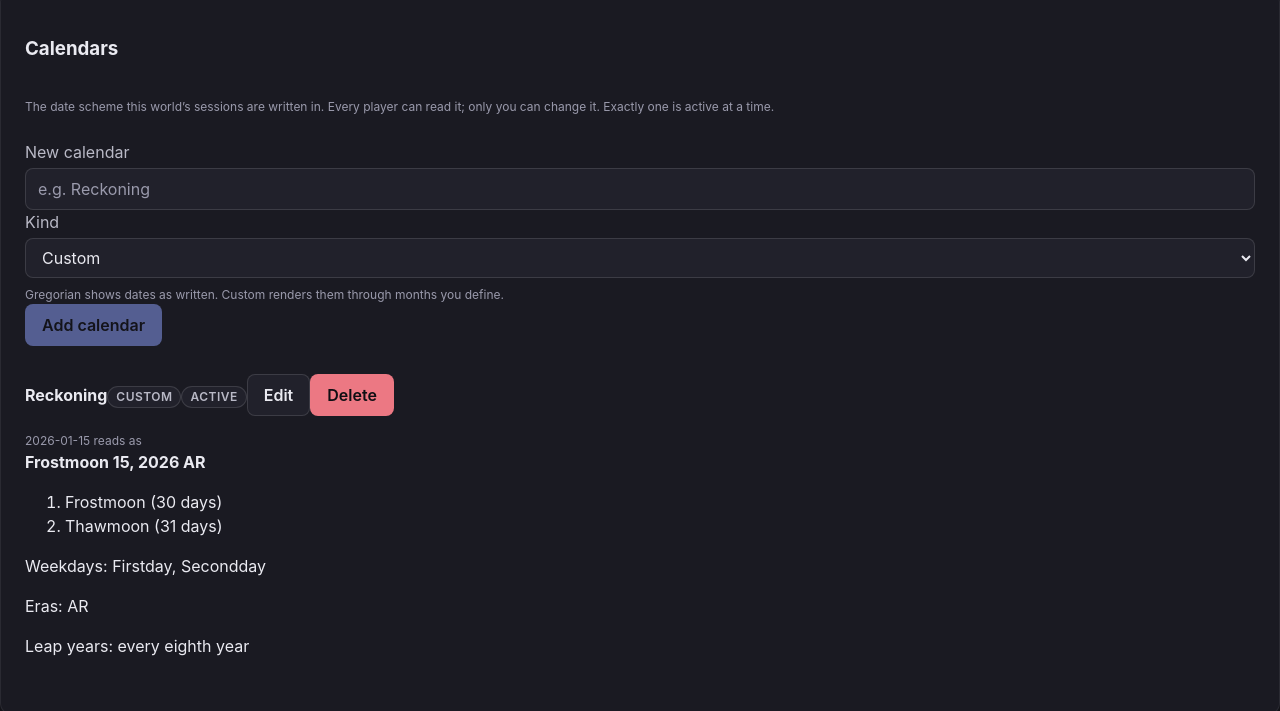
Test: CalendarsPanel › the structured config editor › previews the UNSAVED draft, so a rename is visible before committing
Click the button with aria-label "Edit Reckoning": (278,394) [247,374,310,416]
(page scrolled)
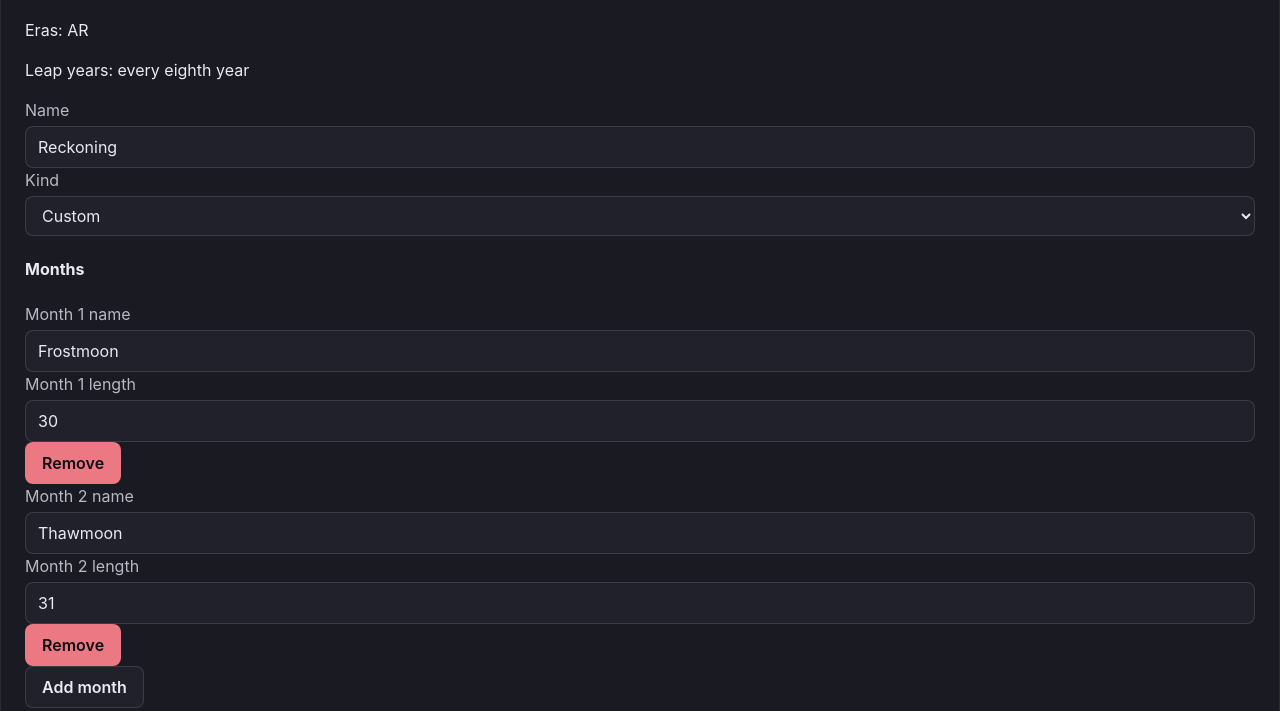
Renaming the FIRST month is what the sample reads through.
Replace the text in the field labelled "Month 1 name" with "Rainmoon": (640,351) [25,330,1255,372]
(page scrolled)
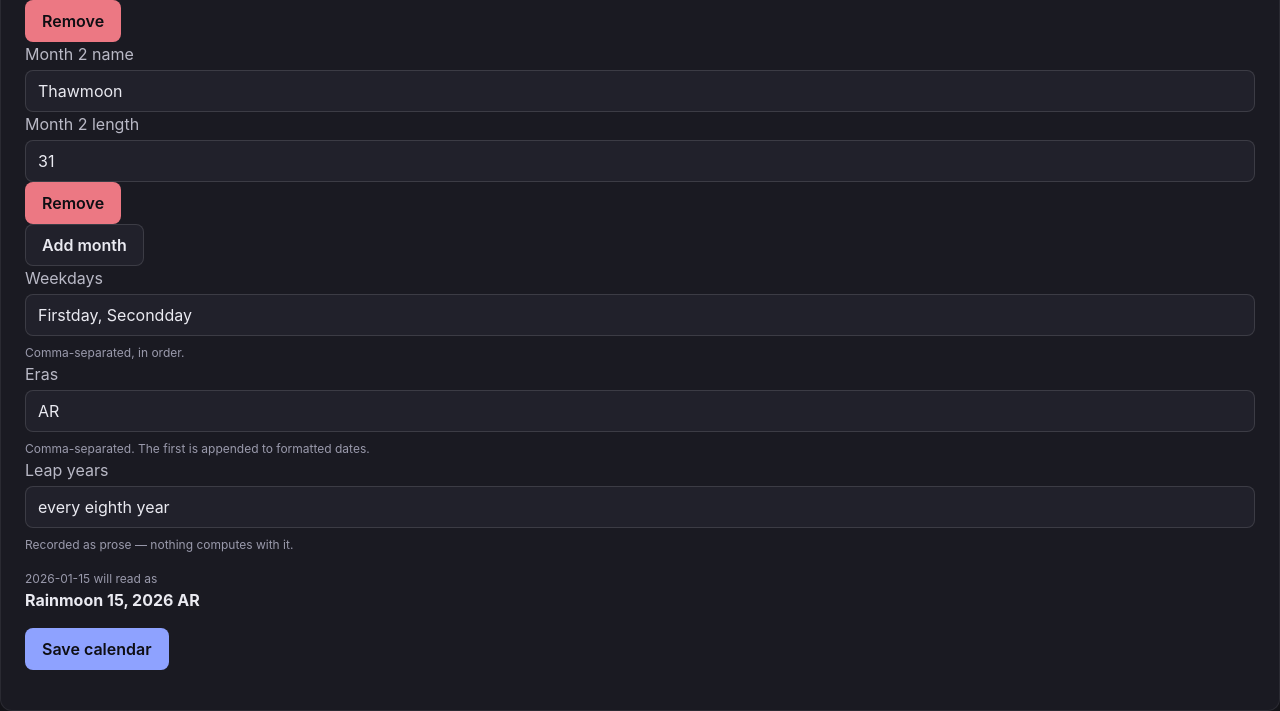
Check: the text "Rainmoon 15, 2026 AR" is shown, box [25,590,200,610]
